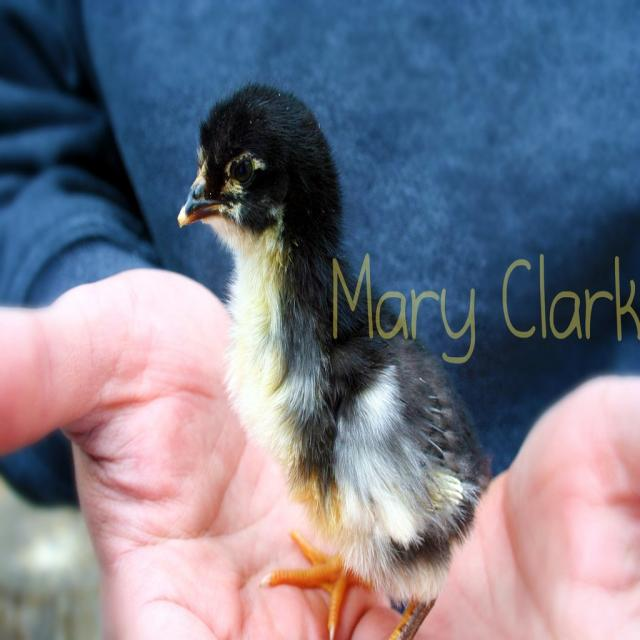Chicken: (185, 80, 487, 636)
